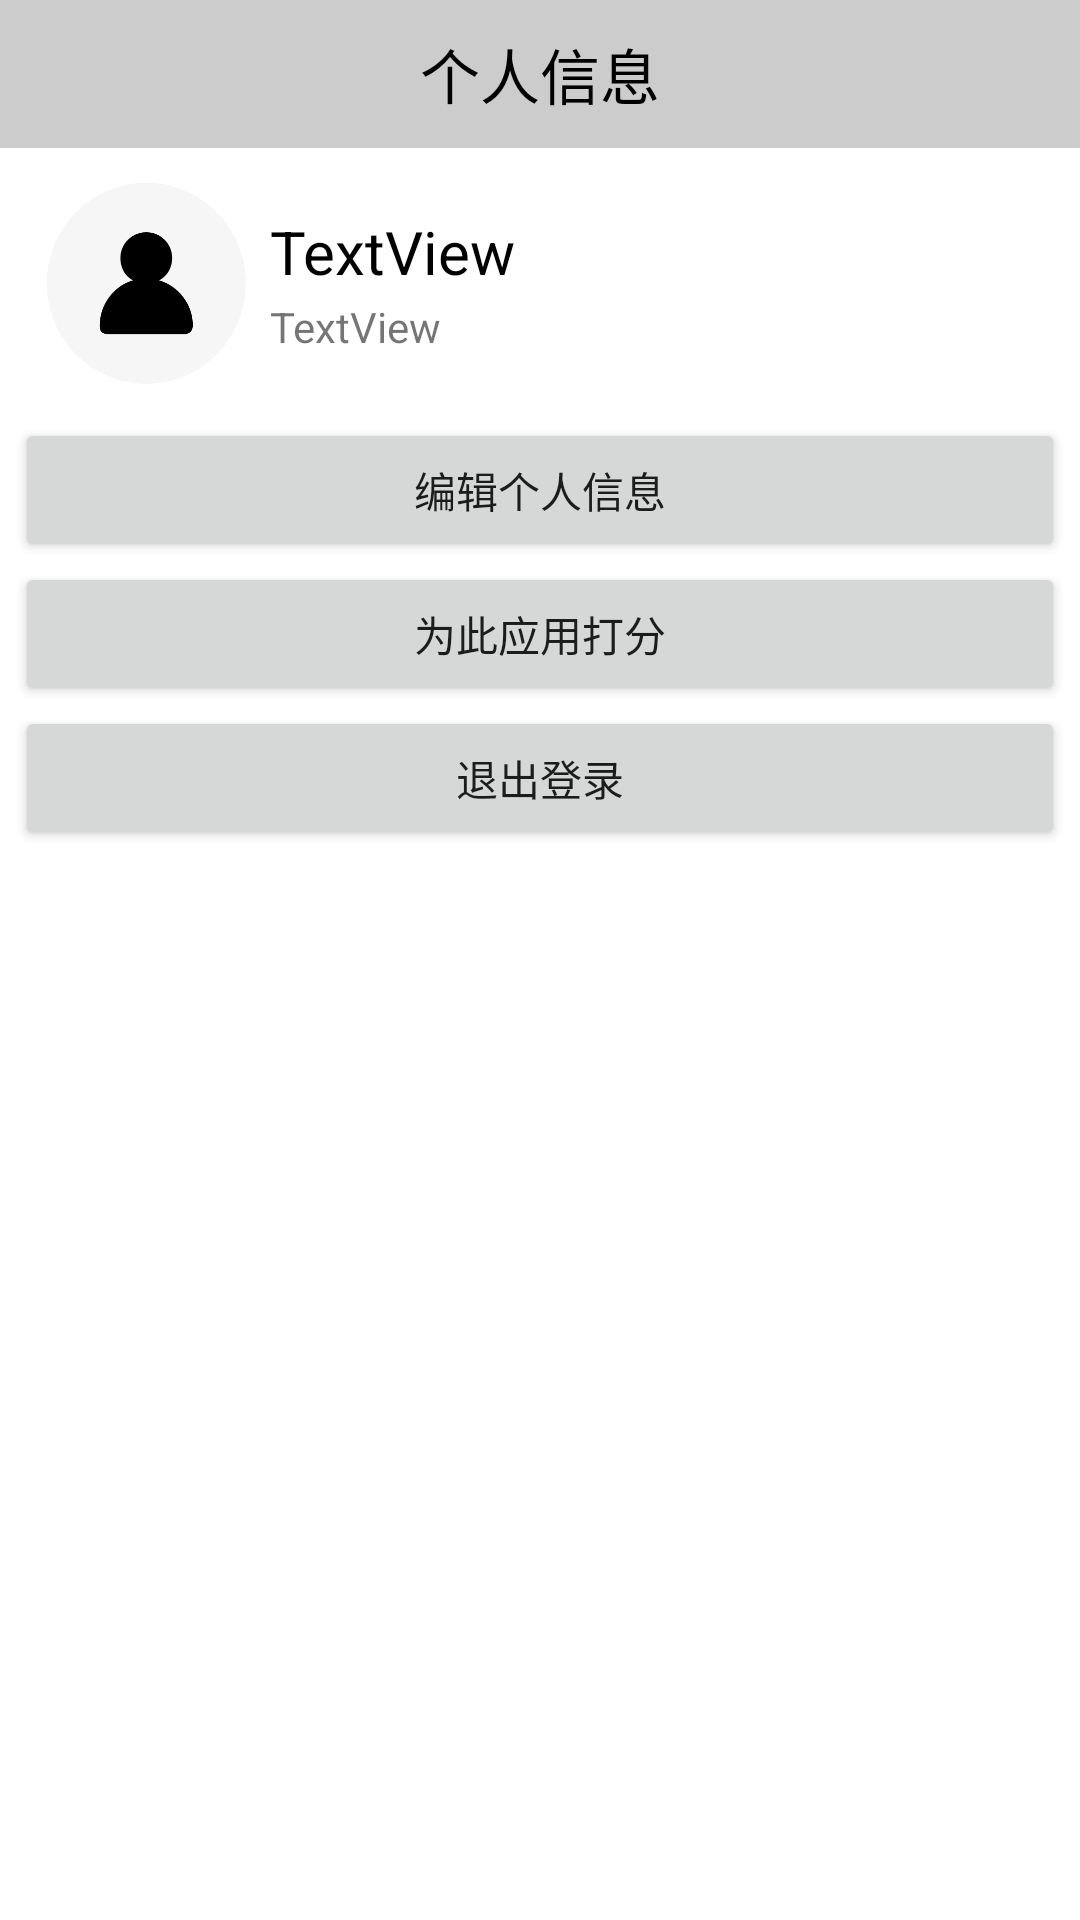

Where to tap for icons on this 1080px×1920px app screen, as point (x, y):
user: point (146, 283)
